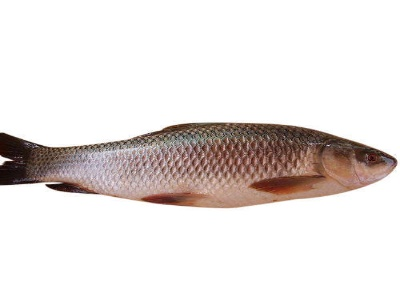rohu: (2, 118, 398, 214)
